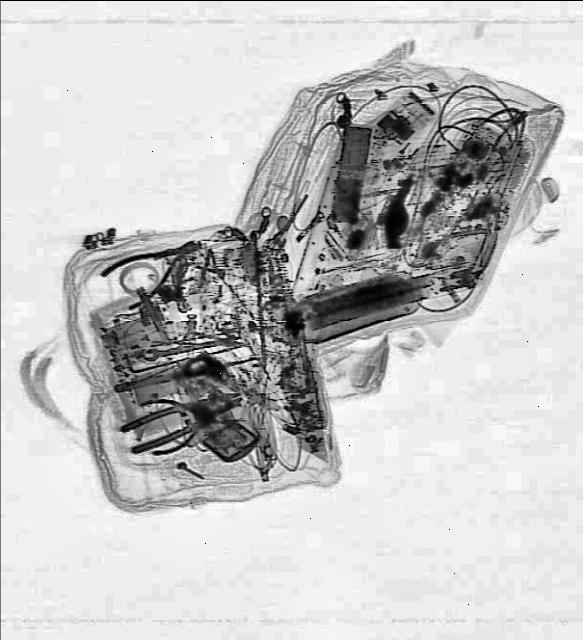Pliers: (100, 220, 212, 316), (120, 385, 248, 457), (138, 378, 236, 458)
Wrench: (142, 335, 240, 363)
